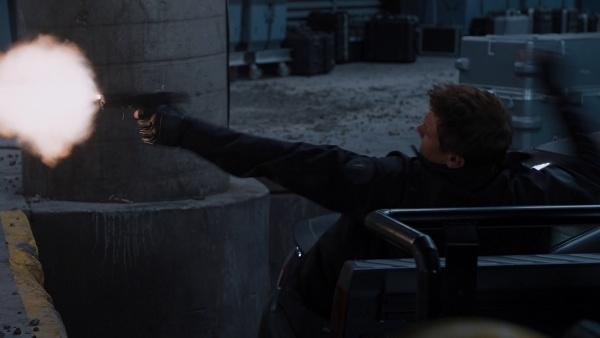Gun: (96, 89, 182, 117)
